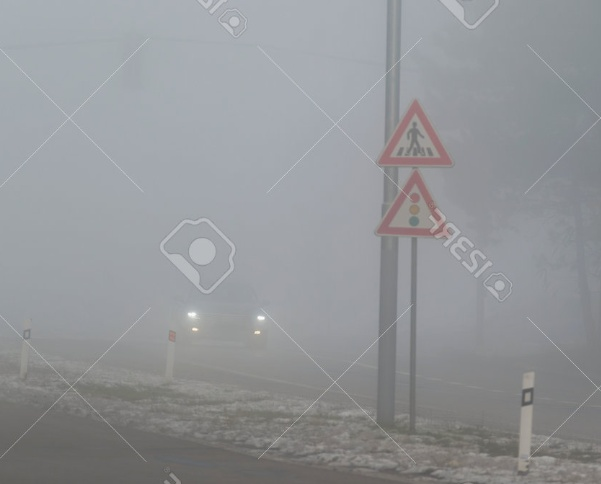Pedestrian crossing: (370, 91, 452, 172)
Traffic lights: (370, 170, 456, 244)
